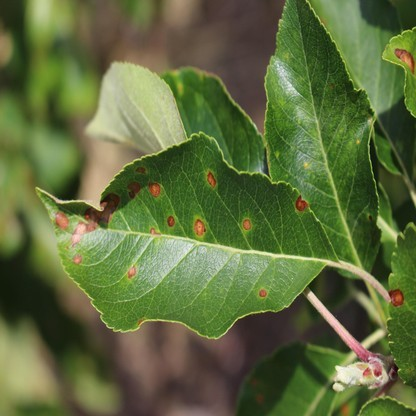rust: (84, 194, 120, 222), (71, 223, 96, 246), (394, 48, 416, 74), (387, 290, 404, 307), (128, 182, 141, 199), (296, 194, 309, 211), (57, 211, 69, 228), (148, 183, 161, 197), (194, 220, 206, 235), (207, 170, 216, 187), (127, 266, 137, 279), (243, 218, 252, 230), (256, 391, 264, 404), (73, 255, 83, 265), (167, 216, 176, 227), (341, 402, 349, 413), (135, 166, 145, 174), (150, 228, 161, 235), (250, 376, 257, 385), (260, 289, 267, 297), (138, 317, 146, 323), (304, 162, 308, 166), (356, 139, 360, 143)
